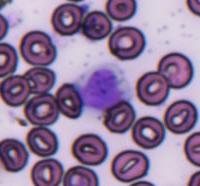M: (80, 63, 126, 110)
